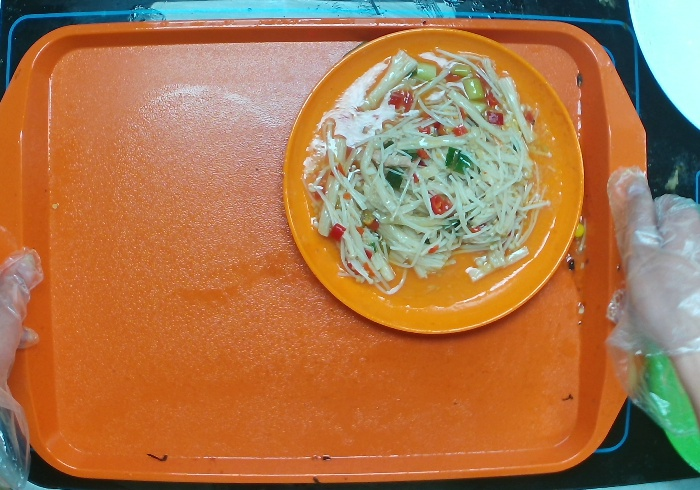HZYJPL-Ju_Huang_Yuan_Pan: (280, 26, 588, 338)
